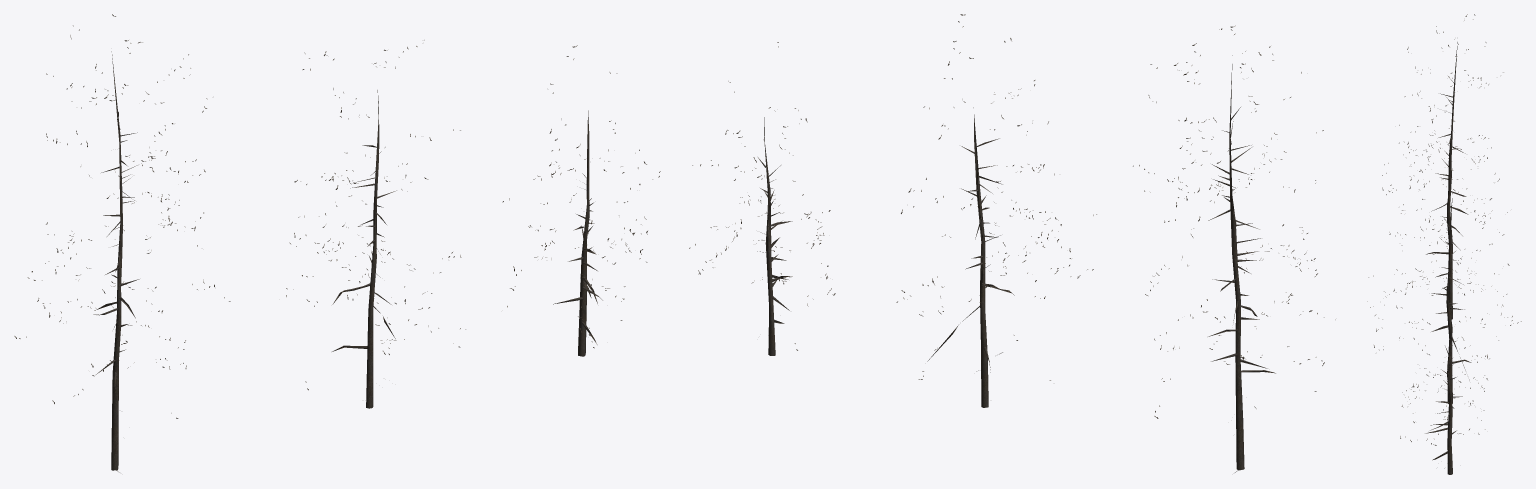
Rendered from pine_sapling_medium.glb.
3 views of the same model, side by side, from view 1: azimuth 30°, elevation 25°; view 2: azimuth 150°, elevation 25°; view 3: azimuth 270°, elevation 25° (orthographic). The views are drawn at different scales.
Parts seen in each view (by area): view 1: pine_sapling_medium_a_LOD0; view 2: pine_sapling_medium_a_LOD0; view 3: pine_sapling_medium_a_LOD0.
Part boxes in pixels (bbox=[...]): pine_sapling_medium_a_LOD0: bbox=[14, 14, 660, 472]; pine_sapling_medium_a_LOD0: bbox=[689, 14, 1335, 472]; pine_sapling_medium_a_LOD0: bbox=[1367, 14, 1521, 474].
Size of the model in its own units: 14.61 by 10.21 by 4.66.
Materials: 3 (3 with a texture image).
